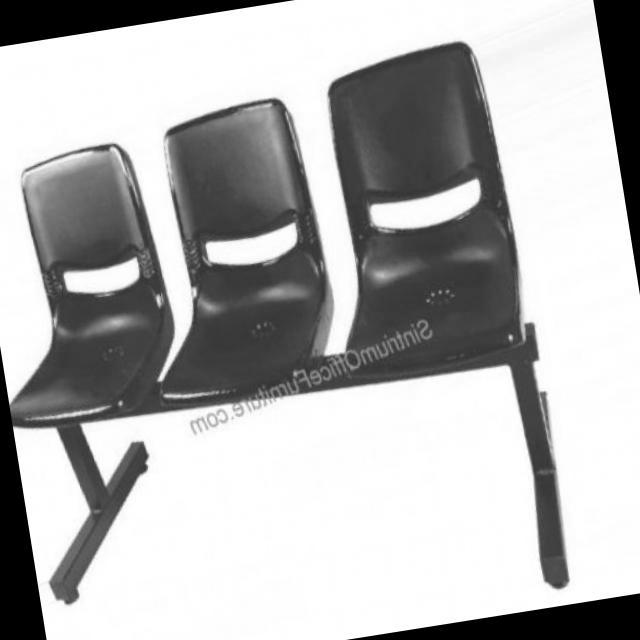chair: (0, 34, 579, 640)
